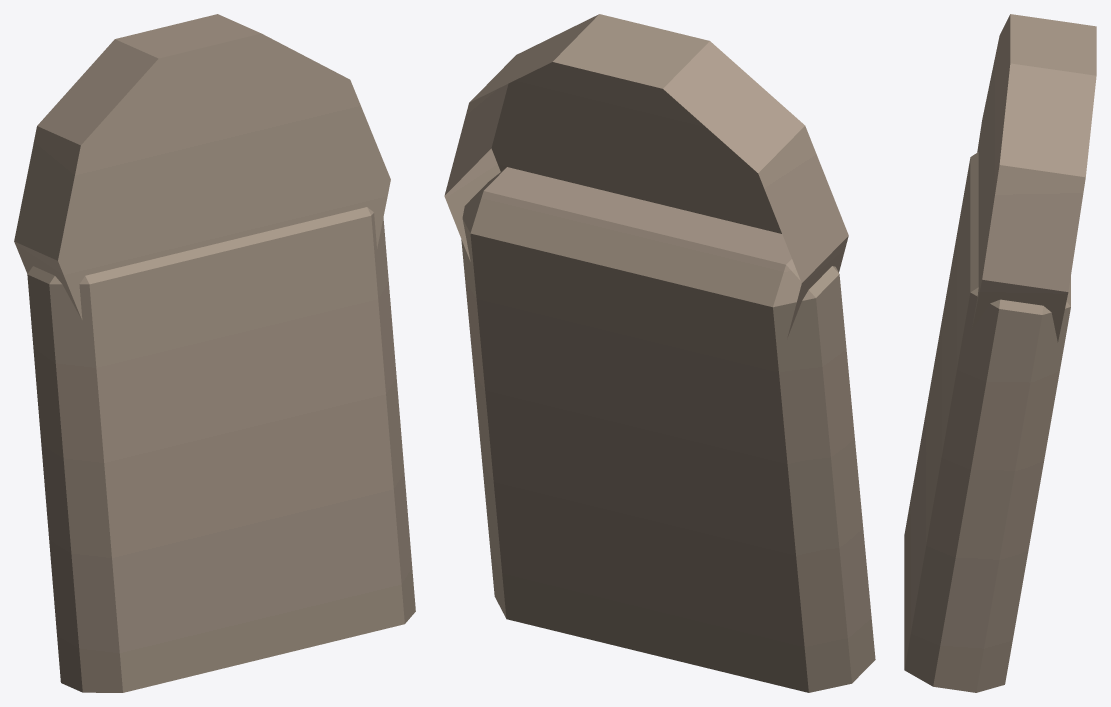
Rendered from headstone_5.glb.
The picture shows the model from 3 angles, left to right: view 1: azimuth 30°, elevation 25°; view 2: azimuth 150°, elevation 25°; view 3: azimuth 270°, elevation 25°; orthographic projection. The views are drawn at different scales.
Parts seen in each view (by area): view 1: headstone_5; view 2: headstone_5; view 3: headstone_5.
Part boxes in pixels (bbox=[...]): headstone_5: bbox=[14, 14, 415, 692]; headstone_5: bbox=[444, 14, 875, 692]; headstone_5: bbox=[904, 14, 1096, 692].
Bounding box in the file's own units: 0.52 × 0.8769 × 0.2641.
1 material, 1 textured.
